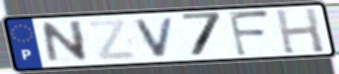7: (179, 10, 225, 60)
F: (226, 9, 273, 58)
H: (273, 7, 327, 56)
N: (39, 19, 91, 66)
V: (133, 16, 178, 59)
Z: (86, 17, 140, 62)
